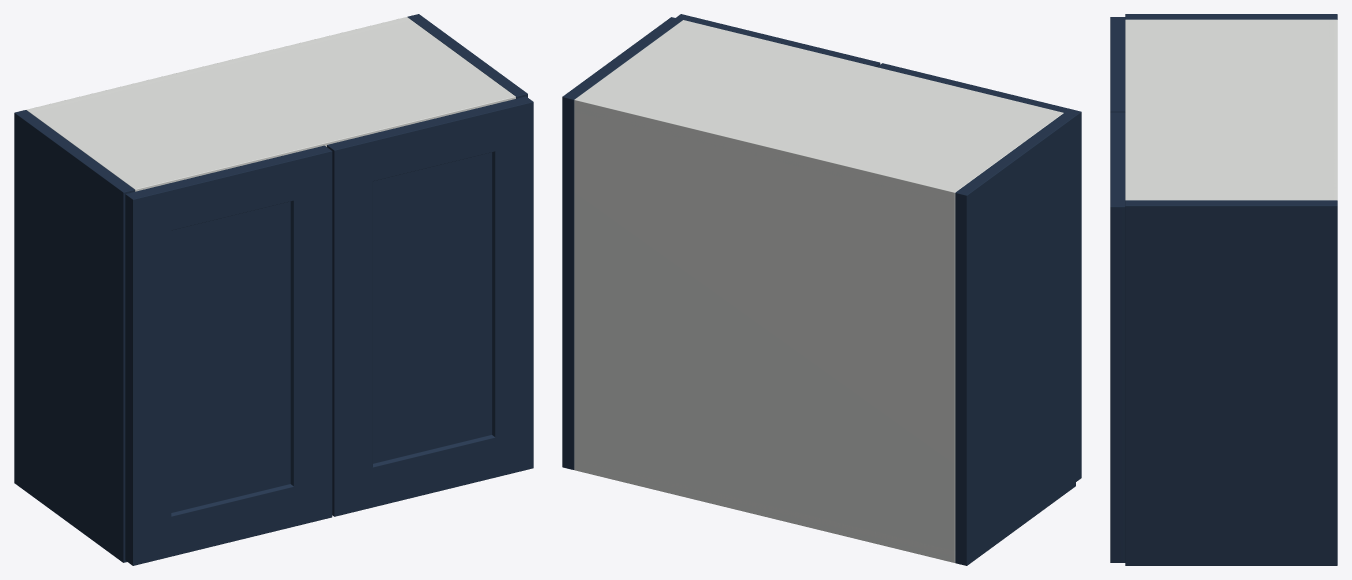
The model's file is oppein-pb-bss-w2421.glb.
3 renders of one model, left to right at view 1: azimuth 30°, elevation 25°; view 2: azimuth 150°, elevation 25°; view 3: azimuth 270°, elevation 25°, orthographic. The views are drawn at different scales.
Visible parts, largest first — view 1: Door, Door.001, Cabinet side, Cabinet top, Cabinet back, Cabinet side.001; view 2: Cabinet back, Cabinet side, Cabinet top, Cabinet side.001, Door, Cabinet bottom, Door.001; view 3: Cabinet side.001, Cabinet top, Door.001, Cabinet back, Door, Cabinet side.
Part boxes in pixels (<box>): Door: <box>125,145,332,565</box>; Door.001: <box>327,96,533,516</box>; Cabinet side: <box>14,110,134,562</box>; Cabinet top: <box>27,18,515,191</box>; Cabinet back: <box>27,17,410,112</box>; Cabinet side.001: <box>407,14,527,98</box>; Cabinet back: <box>574,96,958,562</box>; Cabinet side: <box>955,113,1075,565</box>; Cabinet top: <box>574,20,1063,203</box>; Cabinet side.001: <box>562,17,682,469</box>; Door: <box>877,63,1081,481</box>; Cabinet bottom: <box>574,461,955,561</box>; Door.001: <box>676,14,880,66</box>; Cabinet side.001: <box>1125,200,1337,565</box>; Cabinet top: <box>1125,19,1337,200</box>; Door.001: <box>1110,112,1125,562</box>; Cabinet back: <box>1329,19,1337,200</box>; Door: <box>1110,17,1125,112</box>; Cabinet side: <box>1125,14,1337,19</box>.
Size of the model in its own units: 0.6096 by 0.5334 by 0.3048.
